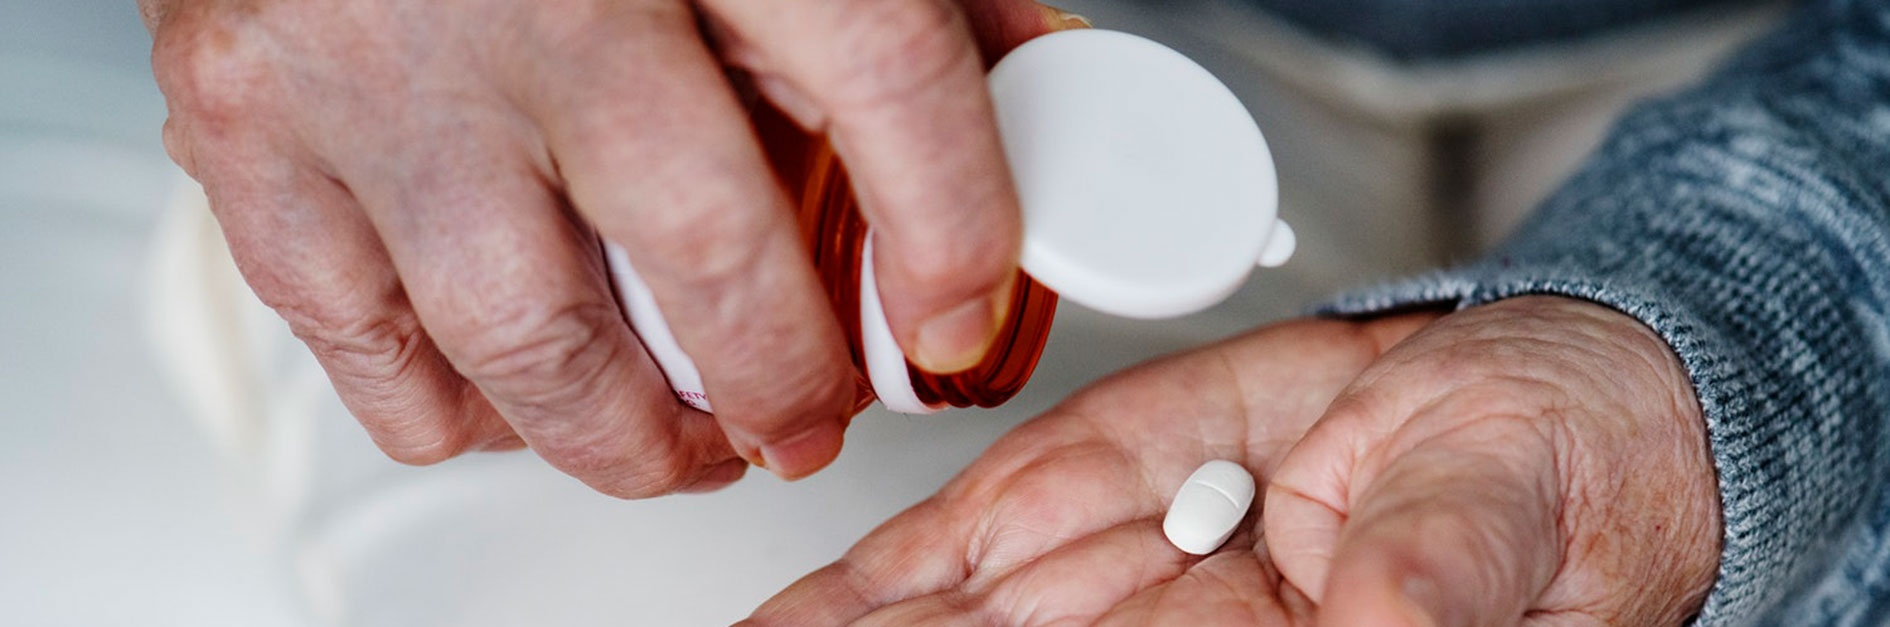pills: (1164, 452, 1264, 559)
